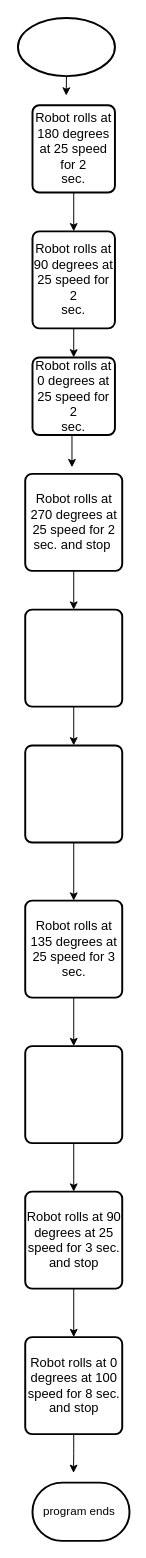
Some shapes in this 146 by 1558 pixel diagram are drawn without their labels. Here are the shapes that lost their labels. From the top down, the centre of each, then its label:
At pixel 65 46: "Start program".
At pixel 73 657: "Robot rolls at 180 degrees at 49 speed for 3 sec.".
At pixel 73 793: "Robot rolls at 225 degrees at 25 speed for 3 sec.".
At pixel 73 1094: "Robot rolls at 225 degrees at 25 speed for 3 sec. and stop".
